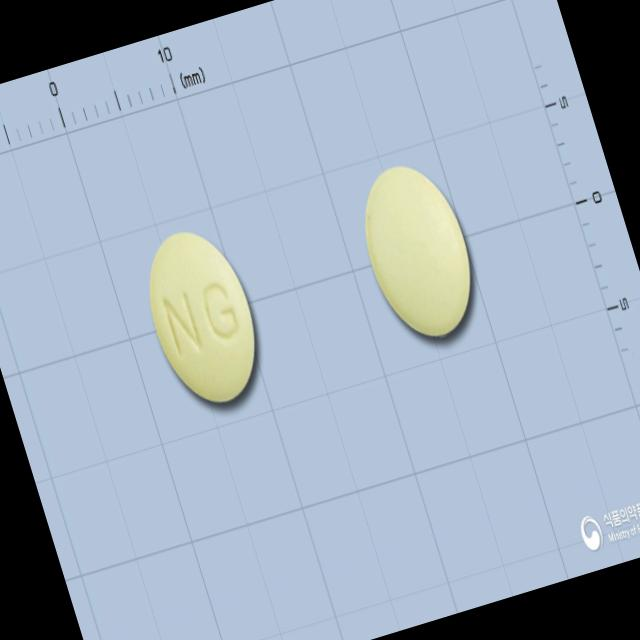Nevolaxin Tablet: (130, 218, 276, 418)
